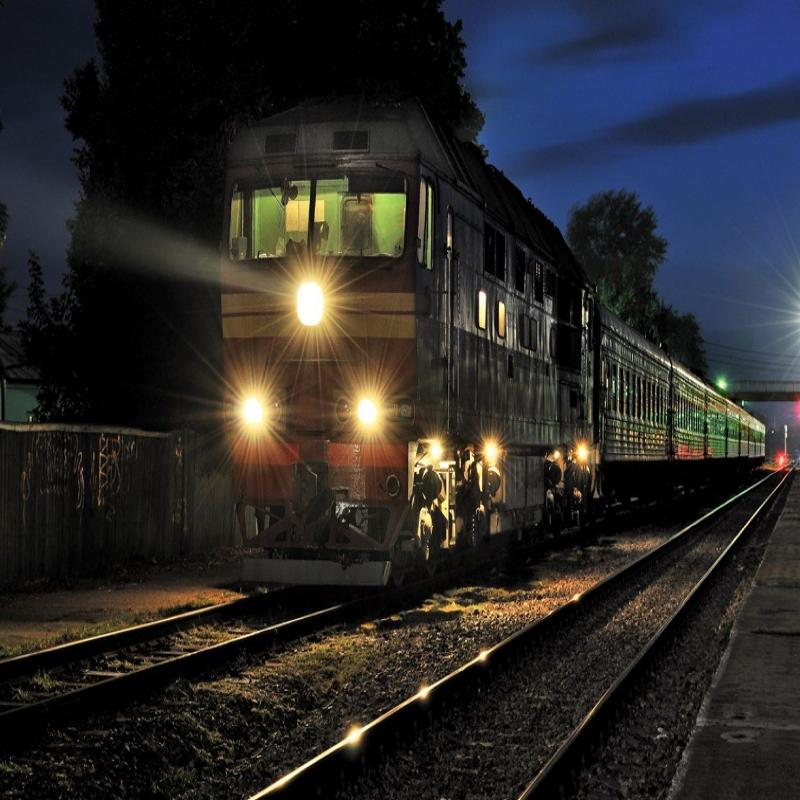train: (207, 47, 608, 632), (593, 281, 685, 511)
